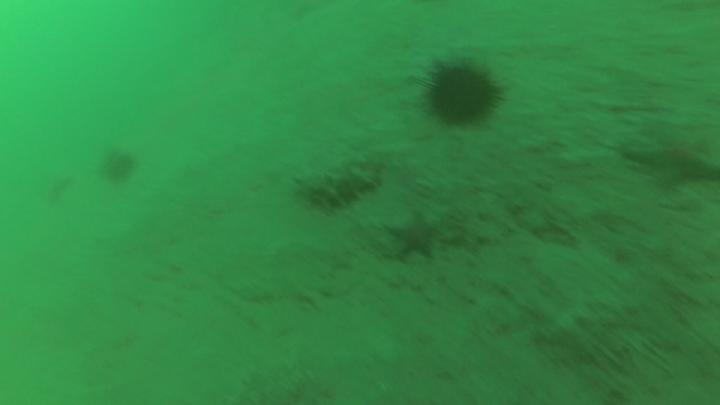echinus: (411, 52, 513, 137)
holothurian: (288, 160, 384, 204)
starfish: (623, 129, 720, 191), (384, 209, 445, 264)
